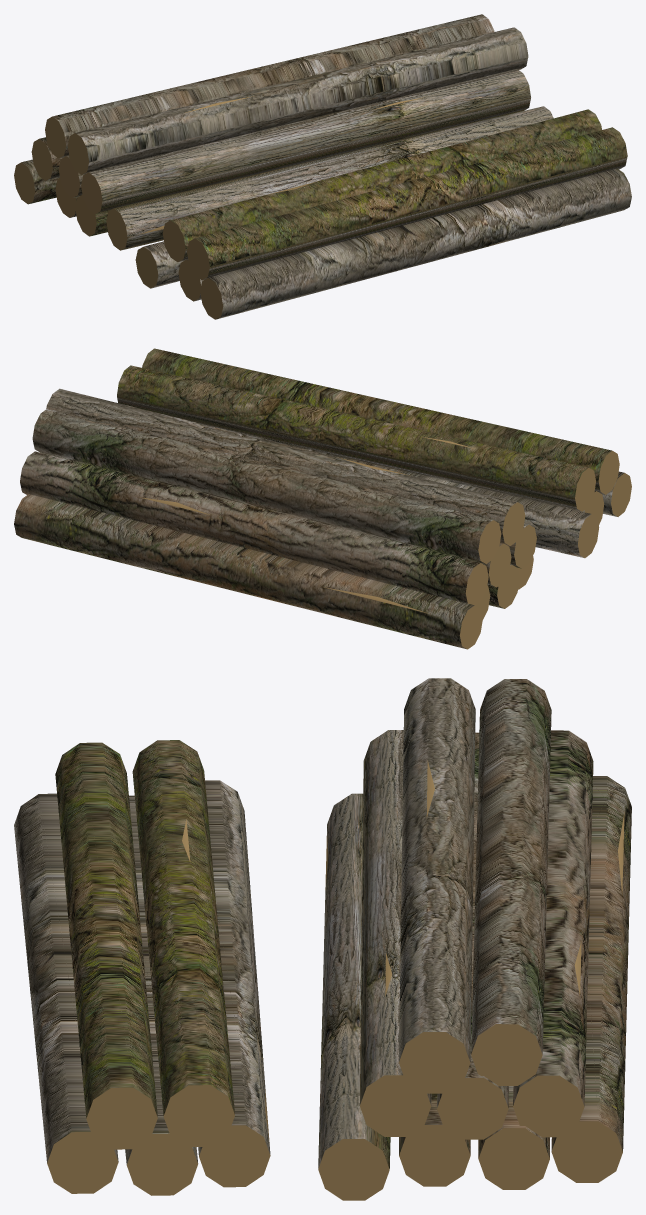
Rendered from Logs.glb.
3 renders of one model, top to bottom at view 1: azimuth 30°, elevation 25°; view 2: azimuth 150°, elevation 25°; view 3: azimuth 270°, elevation 25°, orthographic. The views are drawn at different scales.
Parts seen in each view (by area): view 1: Logs; view 2: Logs; view 3: Logs.
Part boxes in pixels (box(x1,y1,x2,y2)): Logs: box(14, 14, 631, 319); Logs: box(14, 348, 631, 649); Logs: box(14, 678, 631, 1200).
Bounding box in the file's own units: 1.16 × 0.2457 × 0.8352.
2 materials, 1 textured.
